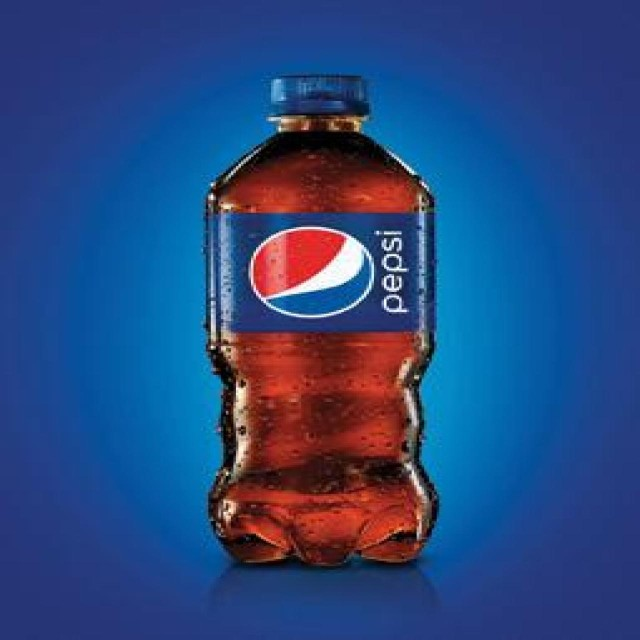pepsi: (245, 225, 377, 322)
